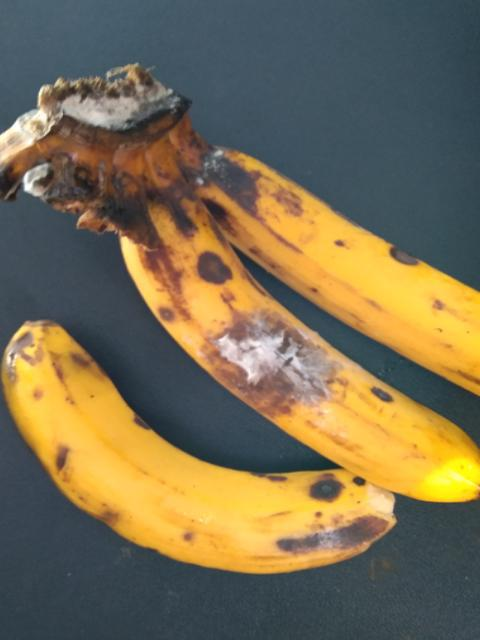overripe: (23, 310, 411, 594), (136, 209, 479, 519), (207, 119, 479, 382)
rotten: (173, 277, 366, 463)
